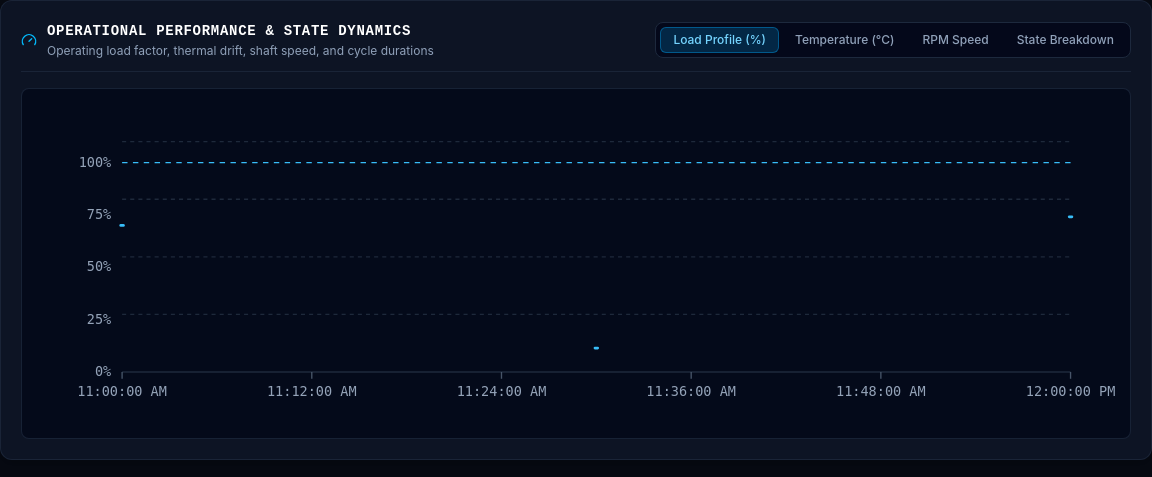
Stage 9C: Machine Detail & Live Telemetry Experience › OperationalPerformanceCharts › renders load and thermal curves, and state duration breakdown
This screenshot has width=1152, height=477.
Check: the heading "Operational Performance & State Dynamics" is shown, box [47,21,434,41]
Click Temperature tab
Click the button "Temperature (°C)" at coordinates (845, 40), box [783,28,906,52]
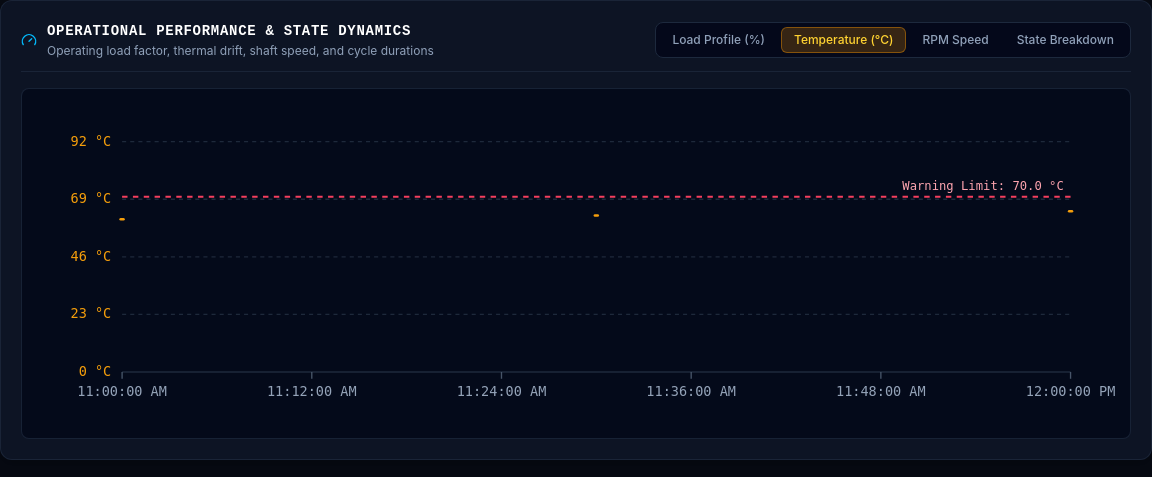
Check: the text "Warning Limit: 70.0 °C" is shown, box [902,179,1064,193]
Click State Breakdown tab
Click the button "State Breakdown" at coordinates (1065, 40), box [1005,28,1126,52]
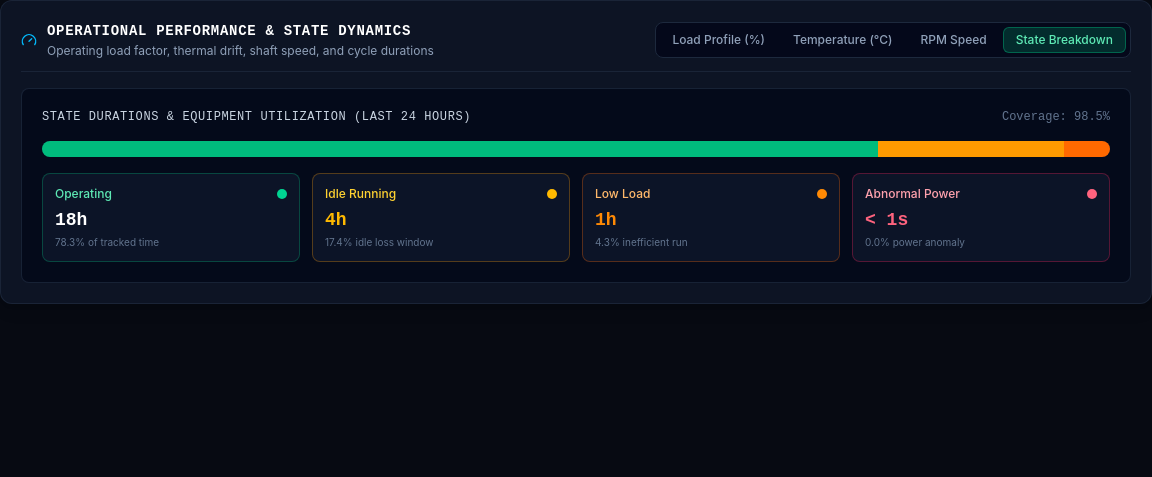
Check: the text "State Durations & Equipment Utilization (Last 24 hours)" is shown, box [42,109,471,125]
Check: the text "18h" is shown, box [55,210,87,230]
Check: the text "4h" is shown, box [325,210,347,230]
